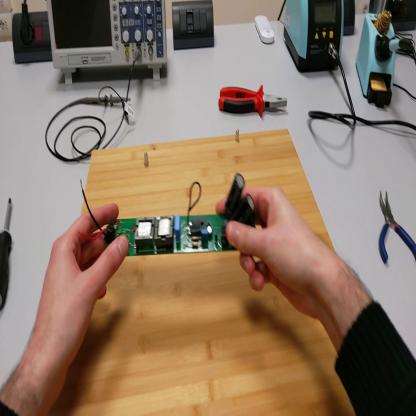hand: (35, 201, 130, 378), (216, 184, 325, 319)
high voltage board: (78, 173, 259, 259)
oscilloscope: (50, 1, 169, 91)
oscilloscope probe tip: (79, 94, 129, 109)
pliers: (377, 188, 416, 266), (218, 81, 287, 118)
screwdriver-: (2, 195, 16, 314)
socket: (10, 9, 54, 66), (387, 3, 416, 34), (344, 3, 356, 39)
welder base: (357, 1, 396, 108)
welder probe tip: (380, 37, 411, 61)
welder station: (284, 1, 345, 76)
working area: (49, 130, 357, 416)
